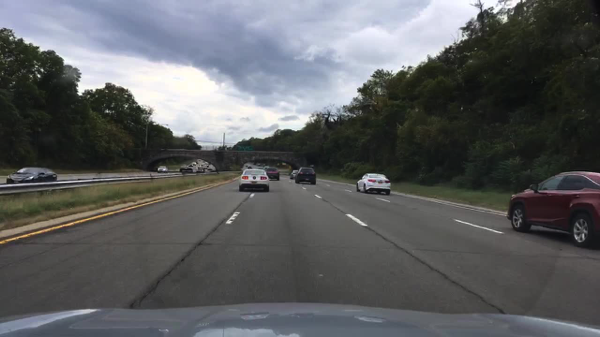car: (505, 171, 599, 248), (6, 166, 58, 184), (355, 173, 391, 194), (239, 169, 270, 192), (294, 167, 317, 185), (265, 167, 280, 181), (289, 169, 301, 180), (157, 166, 169, 174), (179, 166, 187, 173), (198, 168, 205, 174), (185, 168, 193, 173), (181, 169, 188, 174), (207, 168, 214, 173), (256, 162, 261, 167), (262, 163, 268, 167), (263, 166, 269, 170), (191, 162, 197, 166), (188, 163, 194, 167), (195, 167, 199, 173), (244, 164, 249, 168), (247, 165, 252, 169), (252, 162, 257, 166), (206, 162, 211, 166), (202, 162, 207, 166), (204, 164, 208, 169), (196, 164, 201, 168), (207, 169, 213, 172), (195, 160, 199, 164), (202, 160, 206, 163), (197, 159, 201, 162)
traffic sign: (236, 145, 254, 151)
